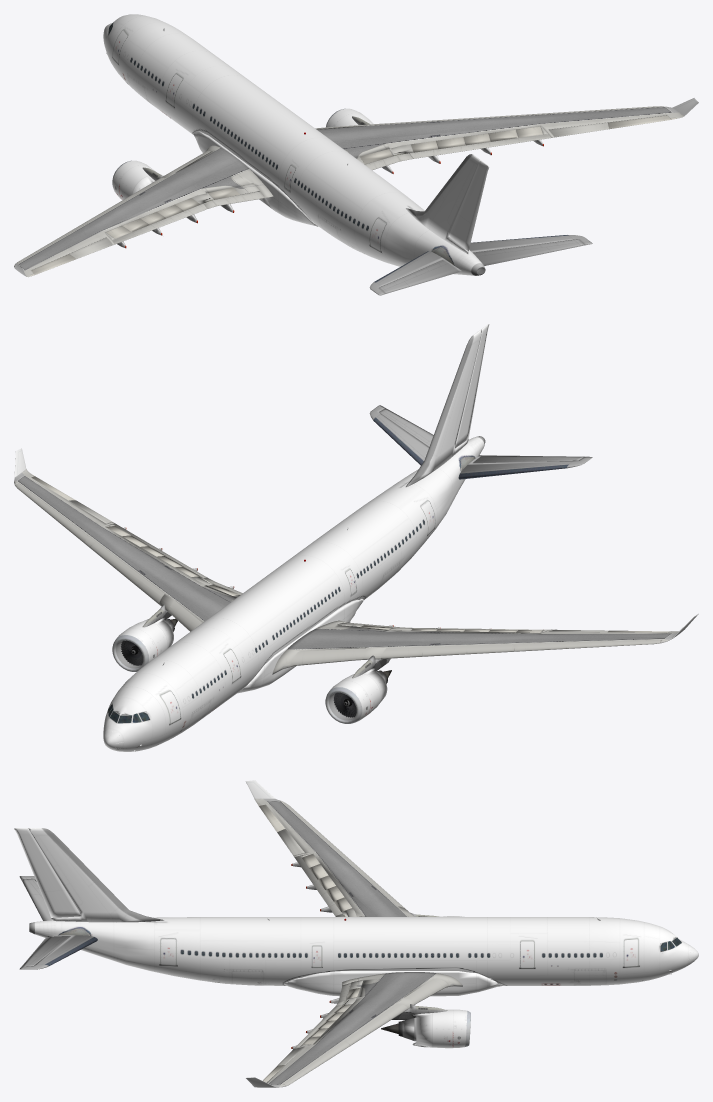
3 views of the same model, one above another, from view 1: azimuth 30°, elevation 25°; view 2: azimuth 150°, elevation 25°; view 3: azimuth 270°, elevation 25° (orthographic). The views are drawn at different scales.
Visible parts, largest first — view 1: fuselage_003, cylinder_006, cylinder_004, vstab, wing_in0_001, hstab, cylinder_002, cylinder_001, rudder, wing_in1_001, bellyfairing, elevator1 (+6 smaller); view 2: fuselage_003, vstab, cylinder_006, cylinder_004, hstab, wing_in0_001, cylinder_002, cylinder_001, slat_out0_001, bellyfairing, wing_in1_001, rudder (+8 smaller); view 3: fuselage_003, vstab, cylinder_004, bellyfairing, rudder, cylinder_006, wing_in1_001, cylinder_001, ge_nacelle1, cylinder_002, hstab, slat_out1_001 (+5 smaller).
Part boxes in pixels (x1=…): fuselage_003: x1=103, y1=14, x2=485, y2=275; cylinder_006: x1=364, y1=115, x2=552, y2=148; cylinder_004: x1=89, y1=171, x2=206, y2=244; vstab: x1=405, y1=154, x2=481, y2=253; wing_in0_001: x1=175, y1=145, x2=273, y2=197; hstab: x1=369, y1=235, x2=592, y2=295; cylinder_002: x1=528, y1=106, x2=684, y2=137; cylinder_001: x1=14, y1=222, x2=113, y2=276; rudder: x1=449, y1=161, x2=489, y2=251; wing_in1_001: x1=316, y1=125, x2=389, y2=157; bellyfairing: x1=193, y1=131, x2=317, y2=226; elevator1: x1=473, y1=239, x2=584, y2=265; fuselage_003: x1=103, y1=436, x2=485, y2=751; vstab: x1=406, y1=329, x2=481, y2=487; cylinder_006: x1=89, y1=522, x2=205, y2=611; cylinder_004: x1=363, y1=629, x2=552, y2=659; hstab: x1=369, y1=405, x2=592, y2=479; wing_in0_001: x1=272, y1=620, x2=389, y2=674; cylinder_002: x1=14, y1=469, x2=113, y2=536; cylinder_001: x1=528, y1=629, x2=678, y2=643; slat_out0_001: x1=381, y1=643, x2=528, y2=658; bellyfairing: x1=237, y1=599, x2=363, y2=693; wing_in1_001: x1=175, y1=585, x2=236, y2=622; rudder: x1=455, y1=324, x2=489, y2=448; fuselage_003: x1=29, y1=917, x2=684, y2=985; vstab: x1=28, y1=828, x2=163, y2=922; cylinder_004: x1=294, y1=852, x2=413, y2=916; bellyfairing: x1=284, y1=971, x2=502, y2=996; rudder: x1=14, y1=828, x2=81, y2=917; cylinder_006: x1=294, y1=994, x2=415, y2=1048; wing_in1_001: x1=342, y1=972, x2=462, y2=997; cylinder_001: x1=254, y1=798, x2=337, y2=856; ge_nacelle1: x1=432, y1=1009, x2=467, y2=1048; cylinder_002: x1=254, y1=1044, x2=337, y2=1087; hstab: x1=19, y1=876, x2=97, y2=969; slat_out1_001: x1=339, y1=1003, x2=407, y2=1048.
Size of the model in its own units: 59.91 by 58.36 by 16.13.
